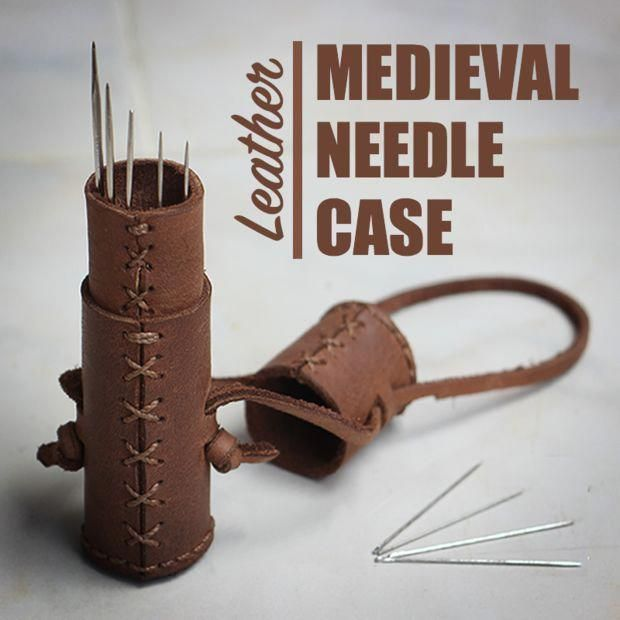cuero: (34, 156, 592, 588)
